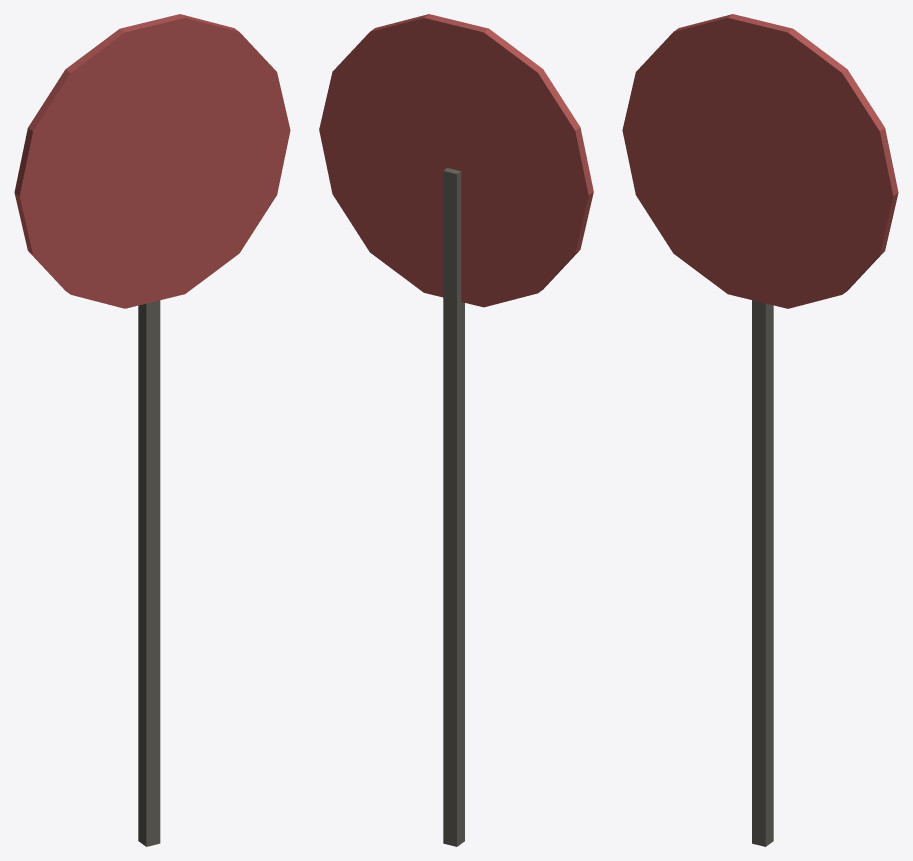
The model's file is CircleRoadSign.fbx.
3 renders of one model, left to right at view 1: azimuth 30°, elevation 25°; view 2: azimuth 150°, elevation 25°; view 3: azimuth 330°, elevation 25°, orthographic.
Parts seen in each view (by area): view 1: Cylinder.001, Cube; view 2: Cylinder.001, Cube; view 3: Cylinder.001, Cube.
Boxes of the visible parts, left/top/right/bottom form: Cylinder.001: left=14, top=14, right=290, bottom=308; Cube: left=138, top=300, right=160, bottom=846; Cylinder.001: left=319, top=14, right=593, bottom=307; Cube: left=443, top=168, right=464, bottom=846; Cylinder.001: left=622, top=14, right=898, bottom=308; Cube: left=752, top=300, right=773, bottom=846.
Size of the model in its own units: 136 by 395 by 8.11.
